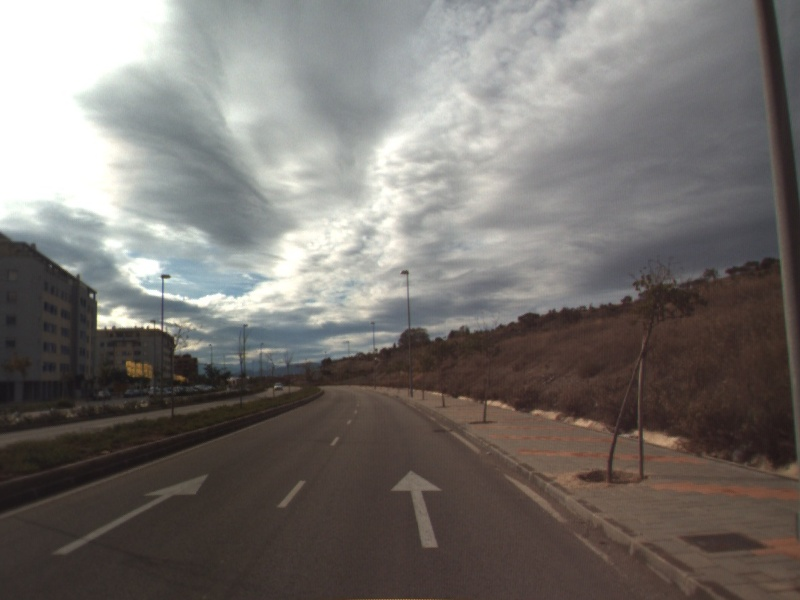STRAIGHT: (50, 472, 212, 557), (388, 468, 446, 550)
